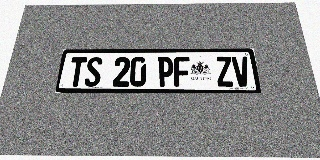0: (129, 57, 146, 87)
2: (113, 57, 130, 87)
F: (174, 57, 191, 87)
P: (157, 57, 174, 87)
S: (84, 57, 103, 87)
T: (67, 57, 87, 87)
V: (231, 56, 251, 86)
Z: (215, 56, 234, 86)
